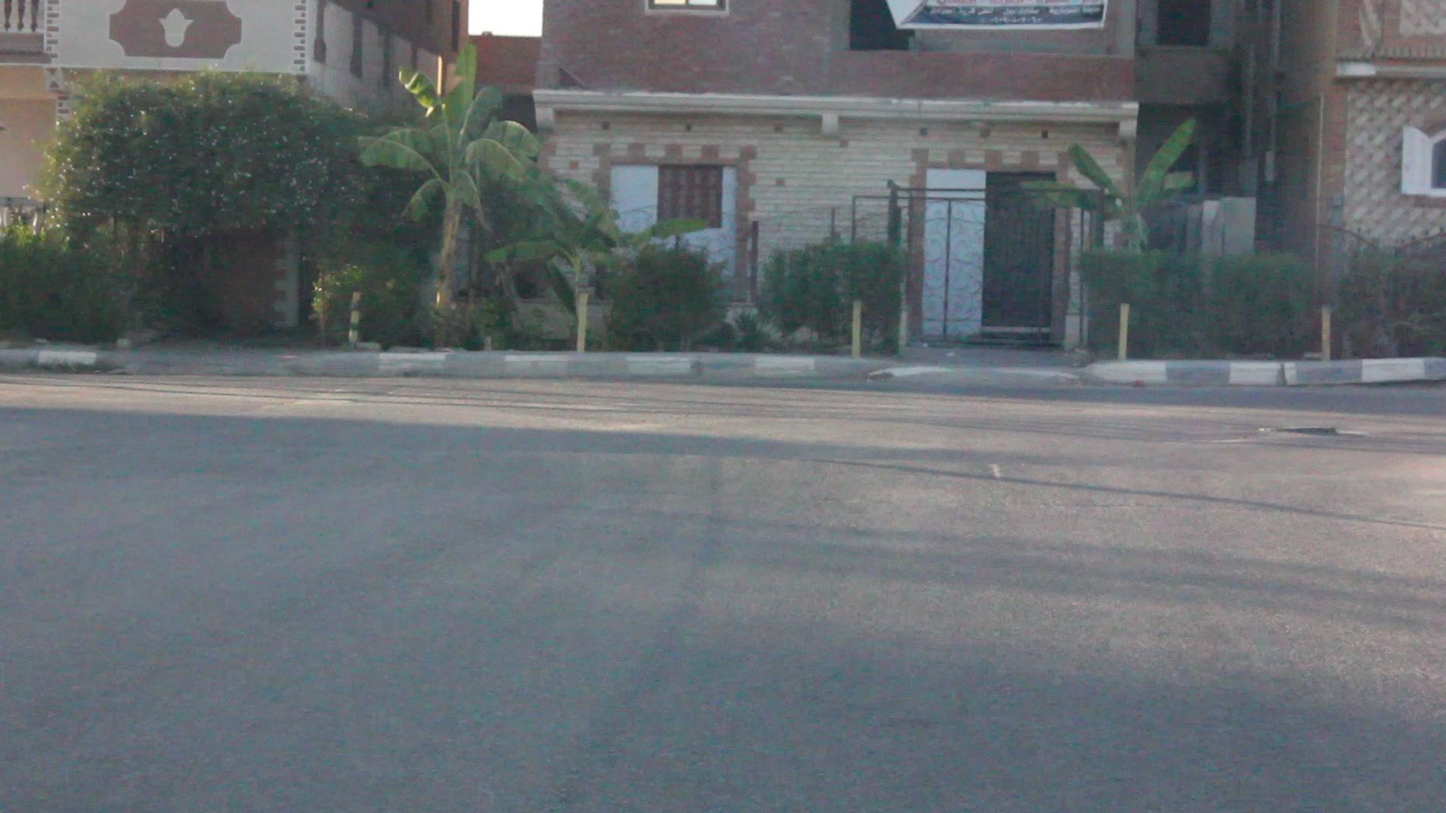Bump: (47, 433, 1412, 487)
